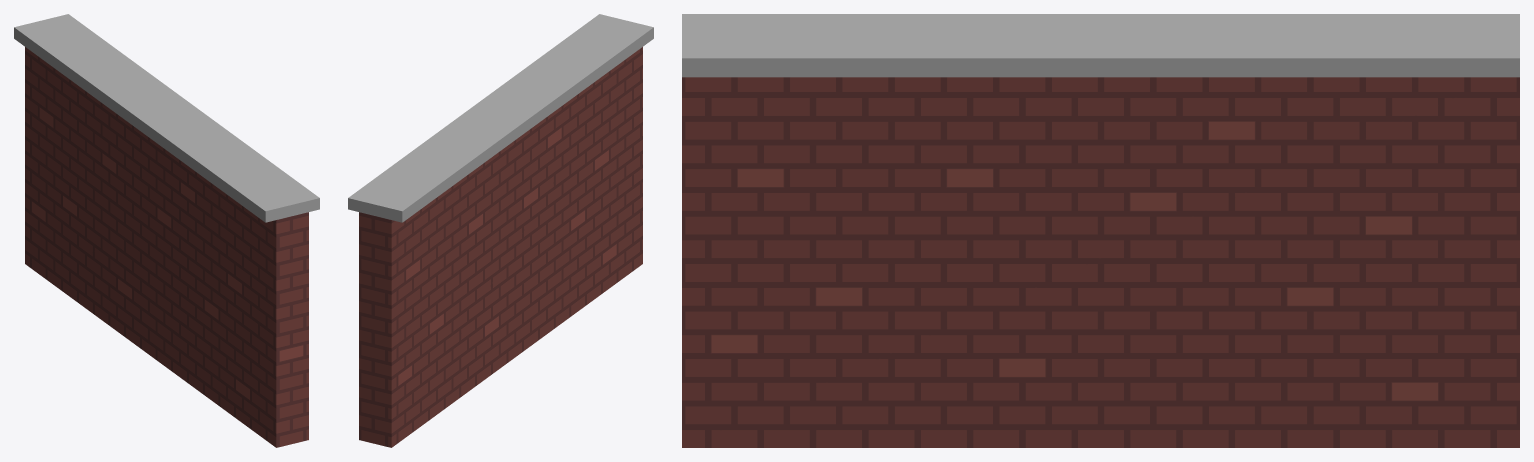
File: SM_wallAttic_01.glb
3 renders of one model, left to right at view 1: azimuth 30°, elevation 25°; view 2: azimuth 150°, elevation 25°; view 3: azimuth 270°, elevation 25°, orthographic. The views are drawn at different scales.
Parts seen in each view (by area): view 1: SM_wallAttic_01; view 2: SM_wallAttic_01; view 3: SM_wallAttic_01.
Part boxes in pixels (left/top/right/bottom): SM_wallAttic_01: left=14, top=14, right=319, bottom=447; SM_wallAttic_01: left=348, top=14, right=653, bottom=447; SM_wallAttic_01: left=682, top=14, right=1519, bottom=447.
Size of the model in its own units: 0.5 by 2.1 by 4.
Materials: 2 (2 with a texture image).
